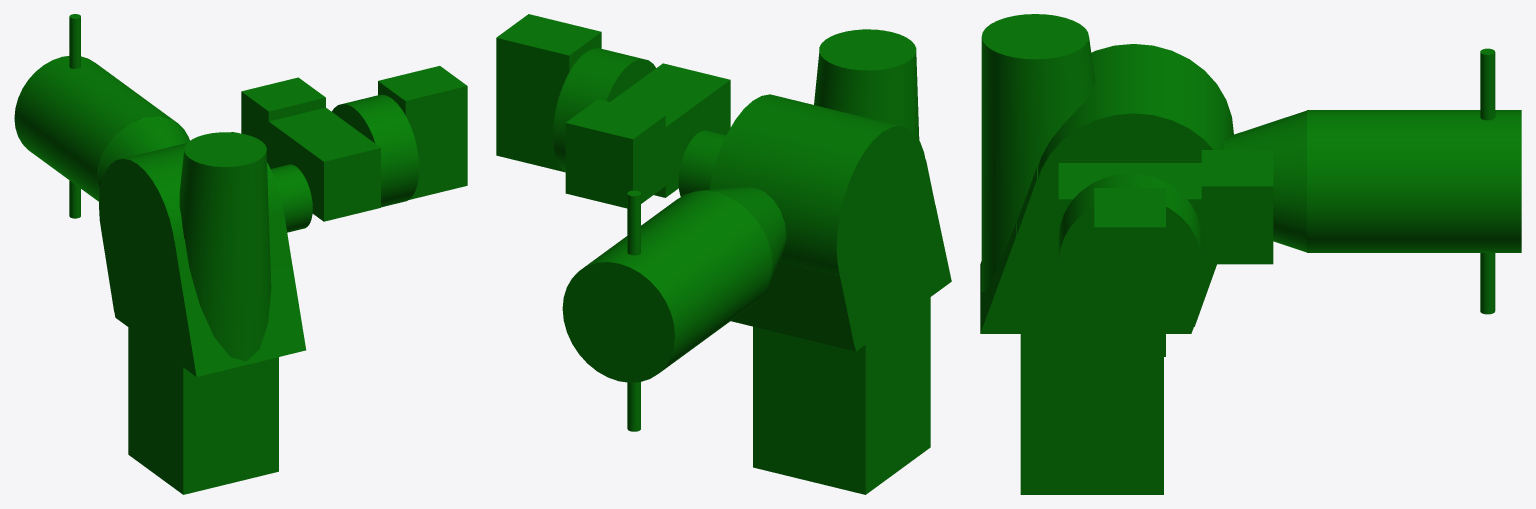
The model's file is Image-1710907725931-2281074226288_42-PF53A.fbx.
3 views of the same model, side by side, from view 1: azimuth 30°, elevation 25°; view 2: azimuth 150°, elevation 25°; view 3: azimuth 270°, elevation 25° (orthographic). The views are drawn at different scales.
Visible parts, largest first — view 1: BOX 1 of SUBEQUIPMENT /42-PF53A/PRIM, SNOUT 1 of SUBEQUIPMENT /42-PF53A/PRIM, PYRAMID 1 of SUBEQUIPMENT /42-PF53A/PRIM, CYLINDER 4 of SUBEQUIPMENT /42-PF53A/PRIM, CYLINDER 1 of SUBEQUIPMENT /42-PF53A/PRIM, BOX 3 of SUBEQUIPMENT /42-PF53A/PRIM, BOX 4 of SUBEQUIPMENT /42-PF53A/PRIM, CYLINDER 3 of SUBEQUIPMENT /42-PF53A/PRIM, BOX 2 of SUBEQUIPMENT /42-PF53A/PRIM, BOX 5 of SUBEQUIPMENT /42-PF53A/PRIM, CONE 1 of SUBEQUIPMENT /42-PF53A/PRIM, CYLINDER 2 of SUBEQUIPMENT /42-PF53A/PRIM (+1 smaller); view 2: CYLINDER 1 of SUBEQUIPMENT /42-PF53A/PRIM, CYLINDER 4 of SUBEQUIPMENT /42-PF53A/PRIM, BOX 1 of SUBEQUIPMENT /42-PF53A/PRIM, BOX 4 of SUBEQUIPMENT /42-PF53A/PRIM, BOX 2 of SUBEQUIPMENT /42-PF53A/PRIM, BOX 5 of SUBEQUIPMENT /42-PF53A/PRIM, SNOUT 1 of SUBEQUIPMENT /42-PF53A/PRIM, BOX 3 of SUBEQUIPMENT /42-PF53A/PRIM, PYRAMID 1 of SUBEQUIPMENT /42-PF53A/PRIM, CYLINDER 3 of SUBEQUIPMENT /42-PF53A/PRIM, CONE 1 of SUBEQUIPMENT /42-PF53A/PRIM, CYLINDER 2 of SUBEQUIPMENT /42-PF53A/PRIM (+2 smaller); view 3: CYLINDER 4 of SUBEQUIPMENT /42-PF53A/PRIM, BOX 1 of SUBEQUIPMENT /42-PF53A/PRIM, CYLINDER 1 of SUBEQUIPMENT /42-PF53A/PRIM, SNOUT 1 of SUBEQUIPMENT /42-PF53A/PRIM, BOX 4 of SUBEQUIPMENT /42-PF53A/PRIM, PYRAMID 1 of SUBEQUIPMENT /42-PF53A/PRIM, CYLINDER 3 of SUBEQUIPMENT /42-PF53A/PRIM, BOX 5 of SUBEQUIPMENT /42-PF53A/PRIM, CONE 1 of SUBEQUIPMENT /42-PF53A/PRIM, BOX 3 of SUBEQUIPMENT /42-PF53A/PRIM, BOX 2 of SUBEQUIPMENT /42-PF53A/PRIM, /42-PF53A/N1 (+1 smaller).
Boxes of the visible parts, <box> form: BOX 1 of SUBEQUIPMENT /42-PF53A/PRIM: <box>128,327,278,494</box>; SNOUT 1 of SUBEQUIPMENT /42-PF53A/PRIM: <box>179,132,271,361</box>; PYRAMID 1 of SUBEQUIPMENT /42-PF53A/PRIM: <box>102,234,306,376</box>; CYLINDER 4 of SUBEQUIPMENT /42-PF53A/PRIM: <box>14,56,176,201</box>; CYLINDER 1 of SUBEQUIPMENT /42-PF53A/PRIM: <box>99,132,283,308</box>; BOX 3 of SUBEQUIPMENT /42-PF53A/PRIM: <box>268,107,380,221</box>; BOX 4 of SUBEQUIPMENT /42-PF53A/PRIM: <box>378,66,467,199</box>; CYLINDER 3 of SUBEQUIPMENT /42-PF53A/PRIM: <box>332,94,419,207</box>; BOX 2 of SUBEQUIPMENT /42-PF53A/PRIM: <box>103,214,292,320</box>; BOX 5 of SUBEQUIPMENT /42-PF53A/PRIM: <box>241,77,325,164</box>; CONE 1 of SUBEQUIPMENT /42-PF53A/PRIM: <box>97,116,189,193</box>; CYLINDER 2 of SUBEQUIPMENT /42-PF53A/PRIM: <box>270,164,312,232</box>; CYLINDER 1 of SUBEQUIPMENT /42-PF53A/PRIM: <box>709,94,927,302</box>; CYLINDER 4 of SUBEQUIPMENT /42-PF53A/PRIM: <box>562,190,772,382</box>; BOX 1 of SUBEQUIPMENT /42-PF53A/PRIM: <box>753,297,930,494</box>; BOX 4 of SUBEQUIPMENT /42-PF53A/PRIM: <box>496,14,601,172</box>; BOX 2 of SUBEQUIPMENT /42-PF53A/PRIM: <box>736,159,940,346</box>; BOX 5 of SUBEQUIPMENT /42-PF53A/PRIM: <box>565,99,665,208</box>; SNOUT 1 of SUBEQUIPMENT /42-PF53A/PRIM: <box>814,29,919,139</box>; BOX 3 of SUBEQUIPMENT /42-PF53A/PRIM: <box>610,63,730,197</box>; PYRAMID 1 of SUBEQUIPMENT /42-PF53A/PRIM: <box>731,205,951,351</box>; CYLINDER 3 of SUBEQUIPMENT /42-PF53A/PRIM: <box>553,48,655,171</box>; CONE 1 of SUBEQUIPMENT /42-PF53A/PRIM: <box>698,186,786,282</box>; CYLINDER 2 of SUBEQUIPMENT /42-PF53A/PRIM: <box>678,130,726,196</box>; CYLINDER 4 of SUBEQUIPMENT /42-PF53A/PRIM: <box>1307,110,1521,252</box>; BOX 1 of SUBEQUIPMENT /42-PF53A/PRIM: <box>1020,334,1163,494</box>; CYLINDER 1 of SUBEQUIPMENT /42-PF53A/PRIM: <box>1033,44,1233,270</box>; SNOUT 1 of SUBEQUIPMENT /42-PF53A/PRIM: <box>981,14,1095,292</box>; BOX 4 of SUBEQUIPMENT /42-PF53A/PRIM: <box>1094,188,1165,356</box>; PYRAMID 1 of SUBEQUIPMENT /42-PF53A/PRIM: <box>980,223,1216,333</box>; CYLINDER 3 of SUBEQUIPMENT /42-PF53A/PRIM: <box>1058,173,1201,317</box>; BOX 5 of SUBEQUIPMENT /42-PF53A/PRIM: <box>1201,150,1273,264</box>; CONE 1 of SUBEQUIPMENT /42-PF53A/PRIM: <box>1223,110,1306,252</box>; BOX 3 of SUBEQUIPMENT /42-PF53A/PRIM: <box>1058,163,1201,277</box>; BOX 2 of SUBEQUIPMENT /42-PF53A/PRIM: <box>1004,166,1216,326</box>; /42-PF53A/N1: <box>1480,48,1495,120</box>.
Bounding box in the file's own units: 0.66 × 0.7565 × 0.66.
